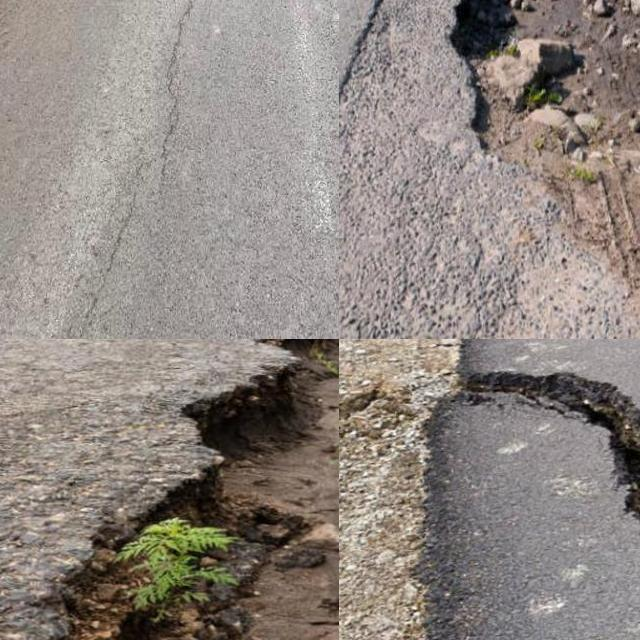Memanjang: (125, 0, 218, 216)
Pinggir: (0, 339, 339, 640), (409, 356, 640, 640), (422, 0, 640, 221)
